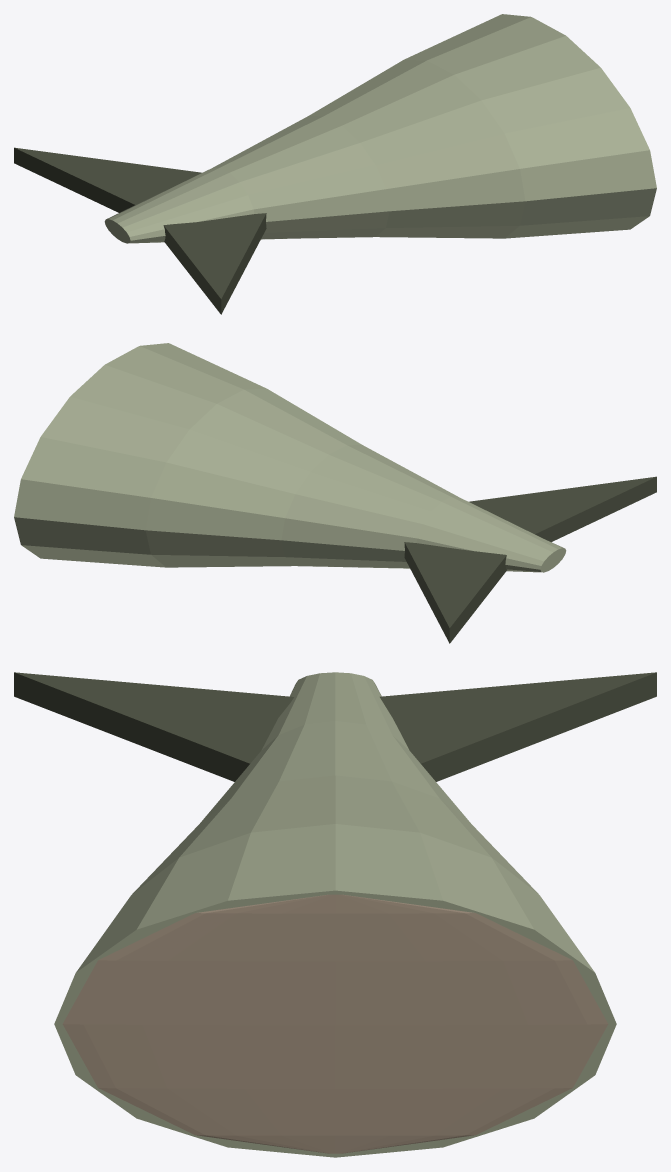
File: FishTail.fbx
The picture shows the model from 3 angles, top to bottom: view 1: azimuth 30°, elevation 25°; view 2: azimuth 150°, elevation 25°; view 3: azimuth 270°, elevation 25°; orthographic projection. The views are drawn at different scales.
Parts seen in each view (by area): view 1: Skin__SpoiledFish, TailFin__SpoiledFishDark; view 2: Skin__SpoiledFish, TailFin__SpoiledFishDark; view 3: CutFace__SpoiledFishFlesh, Skin__SpoiledFish, TailFin__SpoiledFishDark.
Boxes of the visible parts, box(x1,y1,x2,y2) form: Skin__SpoiledFish: box(104, 14, 656, 243); TailFin__SpoiledFishDark: box(14, 147, 266, 314); Skin__SpoiledFish: box(14, 343, 566, 572); TailFin__SpoiledFishDark: box(404, 476, 656, 643); CutFace__SpoiledFishFlesh: box(62, 894, 608, 1153); Skin__SpoiledFish: box(54, 672, 616, 1157); TailFin__SpoiledFishDark: box(14, 672, 656, 781).
Size of what is drawn, in the model's own units: 0.1204 by 0.044 by 0.096.
